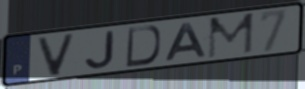7: (258, 9, 291, 54)
A: (163, 20, 210, 62)
D: (123, 24, 163, 69)
J: (83, 29, 117, 71)
M: (205, 11, 256, 61)
V: (36, 32, 77, 78)
